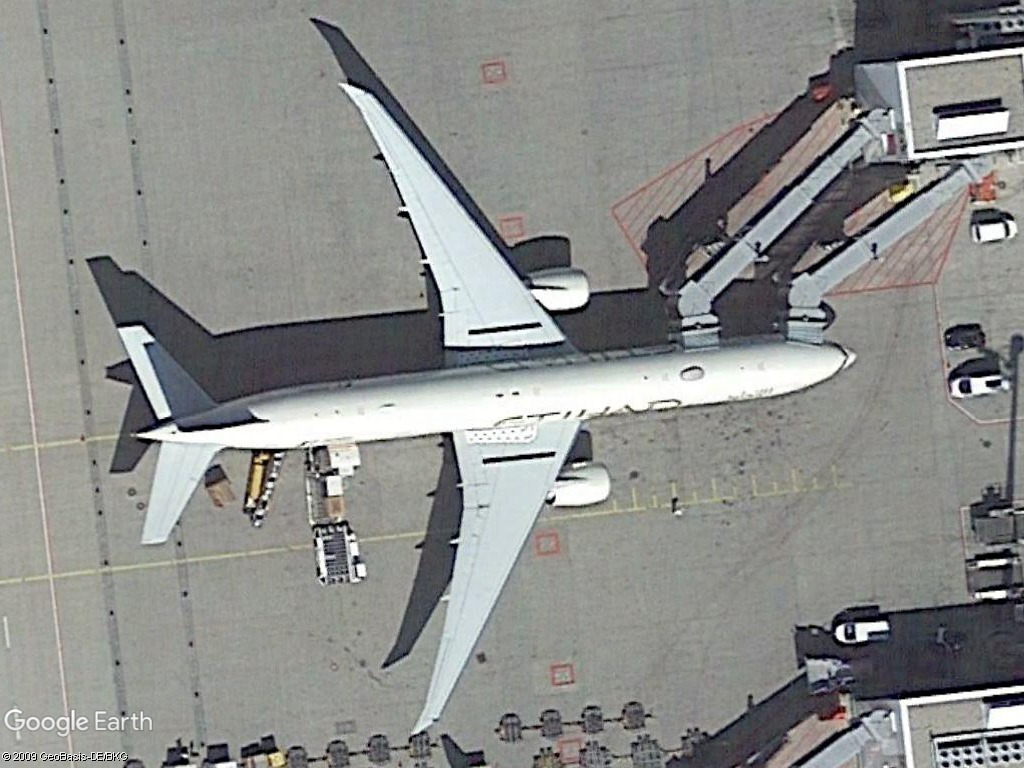airliner: (99, 81, 863, 748)
